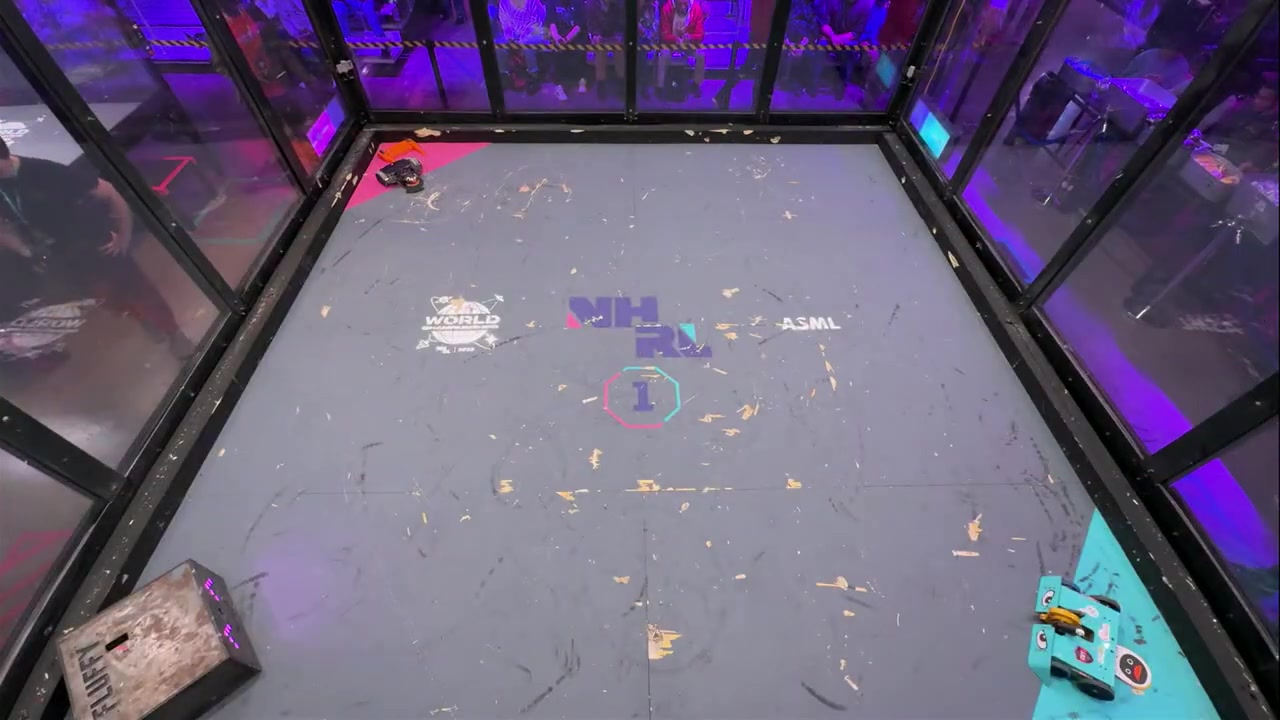combatbot: (1028, 576, 1120, 700), (378, 159, 429, 193)
housebot: (55, 558, 262, 720)
minibot: (380, 141, 416, 158)
